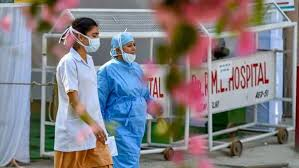mask: (62, 14, 100, 59), (104, 29, 144, 65)
